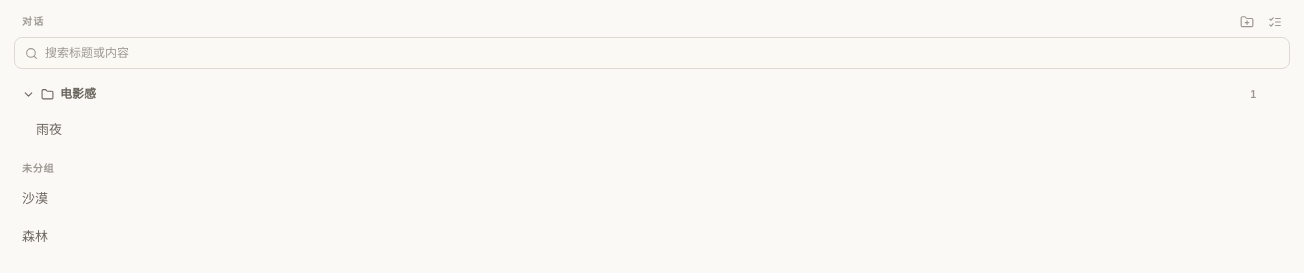
Scenario: ConversationList › filters by title or message content and hides groups without matches
The width and height of the screenshot is (1304, 273).
Type "沙漠" into the search field named "搜索侧栏对话" at (664, 53), box [45,38,1283,68]
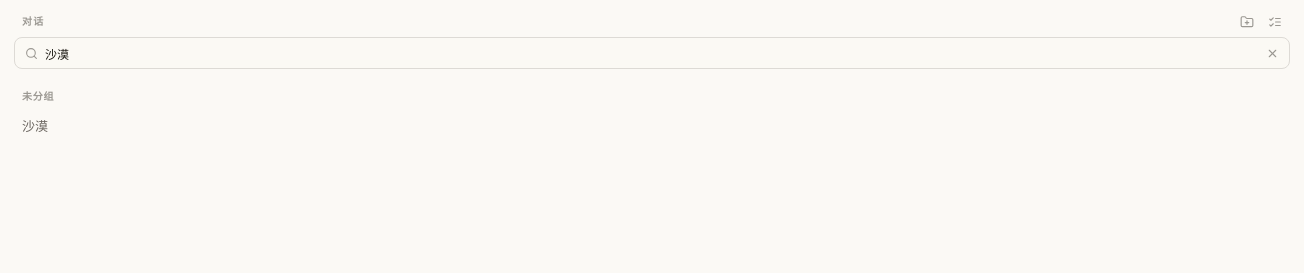
expect the button "沙漠" is shown: met, box [12,108,1292,146]
expect the button "雨夜" is gone: met
expect the button "电影感" is gone: met
Replace the text in the search field named "搜索侧栏对话" with "鹿" at (650, 53), box [45,38,1254,68]
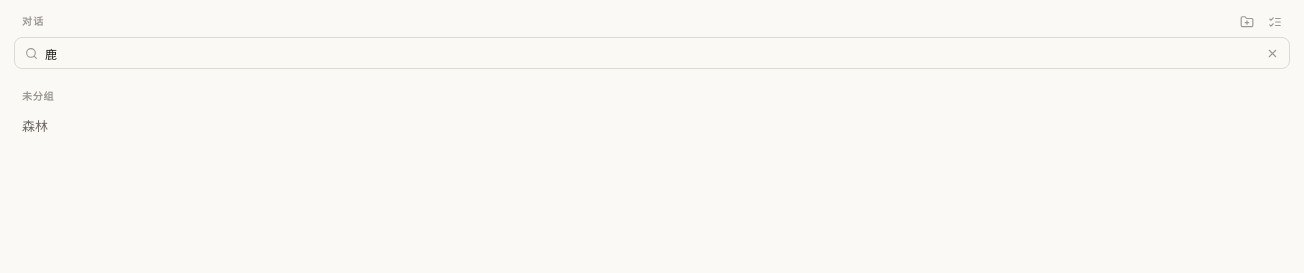
expect the button "森林" is shown: met, box [12,108,1292,146]
expect the button "沙漠" is gone: met
Replace the text in the search field named "搜索侧栏对话" with "雨" at (650, 53), box [45,38,1254,68]
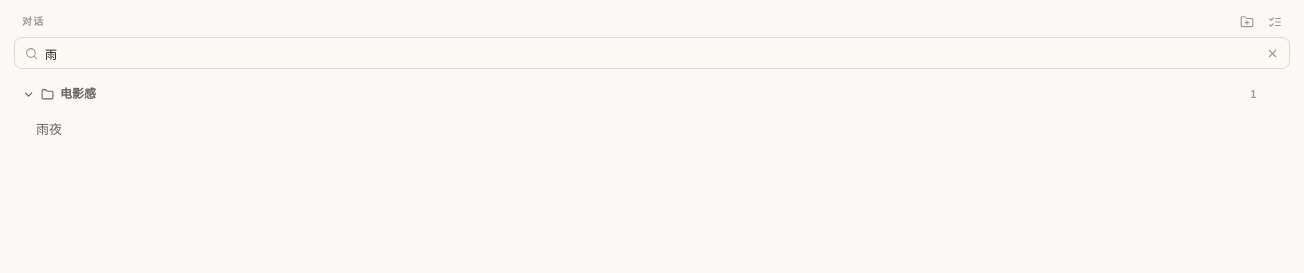
expect the button "雨夜" is shown: met, box [26,111,1292,149]
expect the text "未分组" is gone: met
Replace the text in the search field named "搜索侧栏对话" with "不存在" at (650, 53), box [45,38,1254,68]
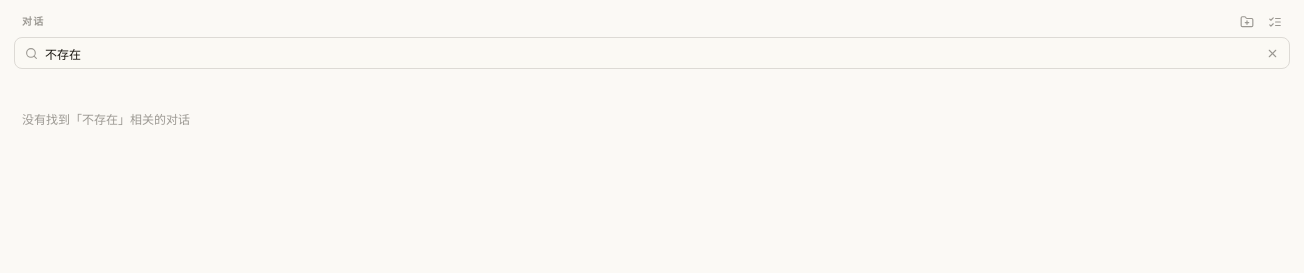
expect the text "没有找到「不存在」相关的对话" is shown: met, box [22,113,190,127]
Click the button named "清空搜索" at (1272, 53), box [1261,42,1283,64]
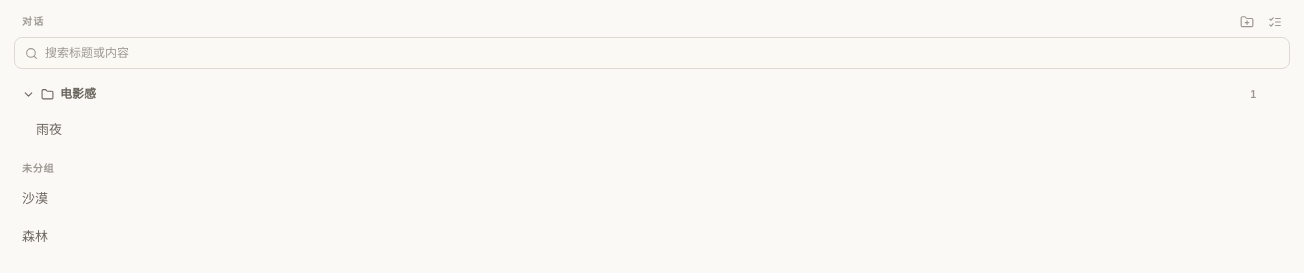
expect the button "雨夜" is shown: met, box [26,111,1292,149]
expect the button "沙漠" is shown: met, box [12,180,1292,218]
expect the button "森林" is shown: met, box [12,218,1292,256]
